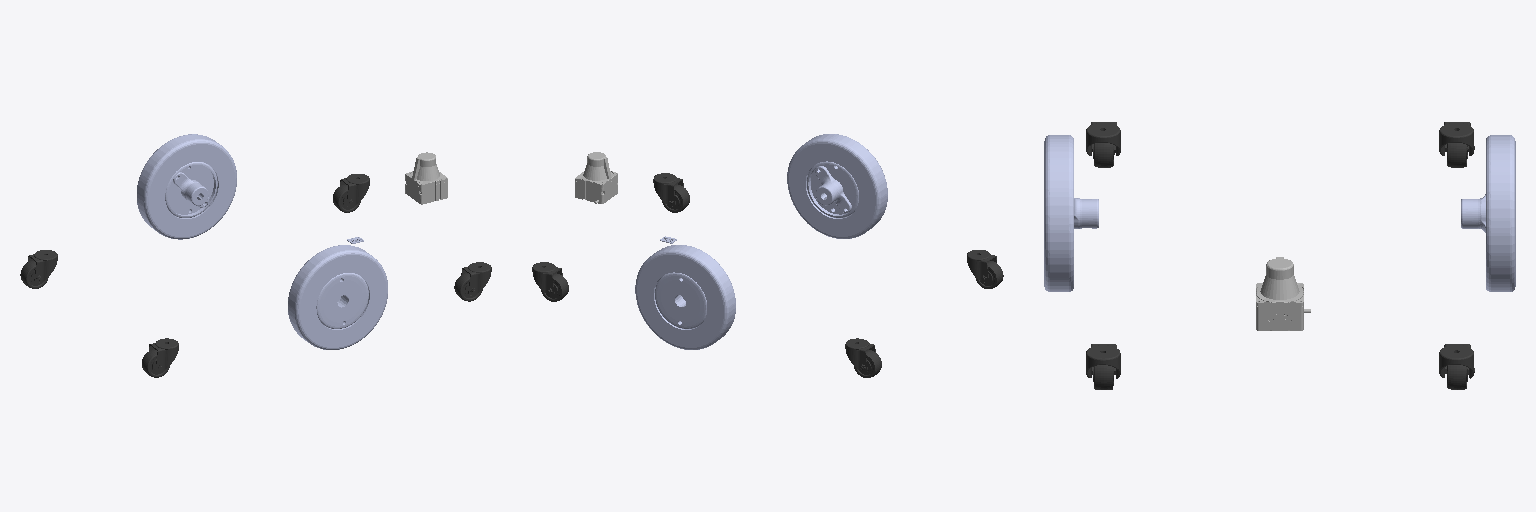
URDF robot description (leondroids_amr):
<?xml version="1.0" encoding="utf-8"?>
<!-- This URDF was automatically created by SolidWorks to URDF Exporter! Originally created by Stephen Brawner (brawner@gmail.com) 
     Commit Version: 1.6.0-1-g15f4949  Build Version: 1.6.7594.29634
     For more information, please see http://wiki.ros.org/sw_urdf_exporter -->
<robot
  name="leondroids_amr">
  <link
    name="base_link">
    <inertial>
      <origin
        xyz="-0.00483011984357595 2.06195437119083E-05 0.0677874851114229"
        rpy="0 0 0" />
      <mass
        value="13.677075451441" />
      <inertia
        ixx="0.542267780300335"
        ixy="3.98881994189506E-05"
        ixz="0.0034002923351286"
        iyy="0.746352447354667"
        iyz="3.10382238991715E-05"
        izz="1.27167600252342" />
    </inertial>
    <visual>
      <origin
        xyz="0 0 0"
        rpy="0 0 0" />
      <geometry>
        <mesh
          filename="package://leondroids_amr/meshes/base_link.STL" />
      </geometry>
      <material
        name="">
        <color
          rgba="0.792156862745098 0.819607843137255 0.933333333333333 1" />
      </material>
    </visual>
    <collision>
      <origin
        xyz="0 0 0"
        rpy="0 0 0" />
      <geometry>
        <mesh
          filename="package://leondroids_amr/meshes/base_link.STL" />
      </geometry>
    </collision>
  </link>
  <link
    name="lidar_link">
    <inertial>
      <origin
        xyz="-7.6839E-05 5.9642E-05 -0.064095"
        rpy="0 0 0" />
      <mass
        value="0.12031" />
      <inertia
        ixx="4.7029E-05"
        ixy="1.4518E-07"
        ixz="-8.1043E-08"
        iyy="4.7398E-05"
        iyz="8.0719E-08"
        izz="7.1234E-05" />
    </inertial>
    <visual>
      <origin
        xyz="0 0 0"
        rpy="0 0 0" />
      <geometry>
        <mesh
          filename="package://leondroids_amr/meshes/lidar_link.STL" />
      </geometry>
      <material
        name="">
        <color
          rgba="0.75294 0.75294 0.75294 1" />
      </material>
    </visual>
    <collision>
      <origin
        xyz="0 0 0"
        rpy="0 0 0" />
      <geometry>
        <mesh
          filename="package://leondroids_amr/meshes/lidar_link.STL" />
      </geometry>
    </collision>
  </link>
  <joint
    name="lidar_joint"
    type="fixed">
    <origin
      xyz="0.3523 0 0.16648"
      rpy="0 0 0" />
    <parent
      link="base_link" />
    <child
      link="lidar_link" />
    <axis
      xyz="0 0 0" />
  </joint>
  <link
    name="imu_link">
    <inertial>
      <origin
        xyz="0.00044188 -0.00010543 -0.0015868"
        rpy="0 0 0" />
      <mass
        value="0.00098313" />
      <inertia
        ixx="2.7278E-08"
        ixy="1.8646E-11"
        ixz="1.8314E-11"
        iyy="4.8045E-08"
        iyz="1.8158E-12"
        izz="7.4856E-08" />
    </inertial>
    <visual>
      <origin
        xyz="0 0 0"
        rpy="0 0 0" />
      <geometry>
        <mesh
          filename="package://leondroids_amr/meshes/imu_link.STL" />
      </geometry>
      <material
        name="">
        <color
          rgba="0.79216 0.81961 0.93333 1" />
      </material>
    </visual>
    <collision>
      <origin
        xyz="0 0 0"
        rpy="0 0 0" />
      <geometry>
        <mesh
          filename="package://leondroids_amr/meshes/imu_link.STL" />
      </geometry>
    </collision>
  </link>
  <joint
    name="imu_joint"
    type="fixed">
    <origin
      xyz="0.19937 -0.00044 0.03105"
      rpy="0 0 0" />
    <parent
      link="base_link" />
    <child
      link="imu_link" />
    <axis
      xyz="0 0 0" />
  </joint>
  <link
    name="right_wheel_link">
    <inertial>
      <origin
        xyz="-1.0226E-06 0.019411 1.7151E-05"
        rpy="0 0 0" />
      <mass
        value="1.1389" />
      <inertia
        ixx="0.0030012"
        ixy="1.0458E-08"
        ixz="-5.6941E-06"
        iyy="0.0057554"
        iyz="-2.0367E-07"
        izz="0.0030059" />
    </inertial>
    <visual>
      <origin
        xyz="0 0 0"
        rpy="0 0 0" />
      <geometry>
        <mesh
          filename="package://leondroids_amr/meshes/right_wheel_link.STL" />
      </geometry>
      <material
        name="">
        <color
          rgba="0.79216 0.81961 0.93333 1" />
      </material>
    </visual>
    <collision>
      <origin
        xyz="0 0 0"
        rpy="0 0 0" />
      <geometry>
        <mesh
          filename="package://leondroids_amr/meshes/right_wheel_link.STL" />
      </geometry>
    </collision>
  </link>
  <joint
    name="right_wheel_joint"
    type="continuous">
    <origin
      xyz="-0.00025793 -0.3 0.0719"
      rpy="0 0 0" />
    <parent
      link="base_link" />
    <child
      link="right_wheel_link" />
    <axis
      xyz="0 1 0" />
  </joint>
  <link
    name="left_wheel_link">
    <inertial>
      <origin
        xyz="7.7226E-07 -0.019411 1.717E-05"
        rpy="0 0 0" />
      <mass
        value="1.1389" />
      <inertia
        ixx="0.0030011"
        ixy="1.0651E-08"
        ixz="5.1479E-06"
        iyy="0.0057554"
        iyz="2.0365E-07"
        izz="0.003006" />
    </inertial>
    <visual>
      <origin
        xyz="0 0 0"
        rpy="0 0 0" />
      <geometry>
        <mesh
          filename="package://leondroids_amr/meshes/left_wheel_link.STL" />
      </geometry>
      <material
        name="">
        <color
          rgba="0.79216 0.81961 0.93333 1" />
      </material>
    </visual>
    <collision>
      <origin
        xyz="0 0 0"
        rpy="0 0 0" />
      <geometry>
        <mesh
          filename="package://leondroids_amr/meshes/left_wheel_link.STL" />
      </geometry>
    </collision>
  </link>
  <joint
    name="left_wheel_joint"
    type="continuous">
    <origin
      xyz="0 0.3 0.0719"
      rpy="0 0 0" />
    <parent
      link="base_link" />
    <child
      link="left_wheel_link" />
    <axis
      xyz="0 1 0" />
  </joint>
  <link
    name="rb_swivel_link">
    <inertial>
      <origin
        xyz="-0.0055199 0.00019164 -0.0066169"
        rpy="0 0 0" />
      <mass
        value="0.011291" />
      <inertia
        ixx="4.0608E-06"
        ixy="-7.8959E-09"
        ixz="-8.6886E-07"
        iyy="3.833E-06"
        iyz="3.0127E-08"
        izz="4.4634E-06" />
    </inertial>
    <visual>
      <origin
        xyz="0 0 0"
        rpy="0 0 0" />
      <geometry>
        <mesh
          filename="package://leondroids_amr/meshes/rb_swivel_link.STL" />
      </geometry>
      <material
        name="">
        <color
          rgba="0.29412 0.29412 0.29412 1" />
      </material>
    </visual>
    <collision>
      <origin
        xyz="0 0 0"
        rpy="0 0 0" />
      <geometry>
        <mesh
          filename="package://leondroids_amr/meshes/rb_swivel_link.STL" />
      </geometry>
    </collision>
  </link>
  <joint
    name="rb_swivel_joint"
    type="continuous">
    <origin
      xyz="-0.3347 -0.225 0.0302"
      rpy="0 0 0" />
    <parent
      link="base_link" />
    <child
      link="rb_swivel_link" />
    <axis
      xyz="0 0 1" />
  </joint>
  <link
    name="rb_wheel_link">
    <inertial>
      <origin
        xyz="-8.7993E-07 -0.021981 -8.5285E-07"
        rpy="0 0 0" />
      <mass
        value="0.047365" />
      <inertia
        ixx="9.5374E-06"
        ixy="-3.8214E-10"
        ixz="4.6996E-10"
        iyy="1.4229E-05"
        iyz="-3.7038E-10"
        izz="9.5374E-06" />
    </inertial>
    <visual>
      <origin
        xyz="0 0 0"
        rpy="0 0 0" />
      <geometry>
        <mesh
          filename="package://leondroids_amr/meshes/rb_wheel_link.STL" />
      </geometry>
      <material
        name="">
        <color
          rgba="0.29412 0.29412 0.29412 1" />
      </material>
    </visual>
    <collision>
      <origin
        xyz="0 0 0"
        rpy="0 0 0" />
      <geometry>
        <mesh
          filename="package://leondroids_amr/meshes/rb_wheel_link.STL" />
      </geometry>
    </collision>
  </link>
  <joint
    name="rb_wheel_joint"
    type="continuous">
    <origin
      xyz="-0.022221 0.022786 -0.033"
      rpy="0 0 -0.034766" />
    <parent
      link="rb_swivel_link" />
    <child
      link="rb_wheel_link" />
    <axis
      xyz="0 1 0" />
  </joint>
  <link
    name="lb_swivel_link">
    <inertial>
      <origin
        xyz="-0.0055198 0.00019493 -0.0066169"
        rpy="0 0 0" />
      <mass
        value="0.011291" />
      <inertia
        ixx="4.0608E-06"
        ixy="-8.0318E-09"
        ixz="-8.6884E-07"
        iyy="3.833E-06"
        iyz="3.0645E-08"
        izz="4.4634E-06" />
    </inertial>
    <visual>
      <origin
        xyz="0 0 0"
        rpy="0 0 0" />
      <geometry>
        <mesh
          filename="package://leondroids_amr/meshes/lb_swivel_link.STL" />
      </geometry>
      <material
        name="">
        <color
          rgba="0.29412 0.29412 0.29412 1" />
      </material>
    </visual>
    <collision>
      <origin
        xyz="0 0 0"
        rpy="0 0 0" />
      <geometry>
        <mesh
          filename="package://leondroids_amr/meshes/lb_swivel_link.STL" />
      </geometry>
    </collision>
  </link>
  <joint
    name="lb_swivel_joint"
    type="continuous">
    <origin
      xyz="-0.3347 0.225 0.0302"
      rpy="0 0 0" />
    <parent
      link="base_link" />
    <child
      link="lb_swivel_link" />
    <axis
      xyz="0 0 1" />
  </joint>
  <link
    name="lb_wheel_link">
    <inertial>
      <origin
        xyz="-0.00077642 -0.021967 9.9103E-07"
        rpy="0 0 0" />
      <mass
        value="0.047365" />
      <inertia
        ixx="9.5431E-06"
        ixy="1.6607E-07"
        ixz="4.6225E-10"
        iyy="1.4223E-05"
        iyz="4.1431E-10"
        izz="9.5375E-06" />
    </inertial>
    <visual>
      <origin
        xyz="0 0 0"
        rpy="0 0 0" />
      <geometry>
        <mesh
          filename="package://leondroids_amr/meshes/lb_wheel_link.STL" />
      </geometry>
      <material
        name="">
        <color
          rgba="0.29412 0.29412 0.29412 1" />
      </material>
    </visual>
    <collision>
      <origin
        xyz="0 0 0"
        rpy="0 0 0" />
      <geometry>
        <mesh
          filename="package://leondroids_amr/meshes/lb_wheel_link.STL" />
      </geometry>
    </collision>
  </link>
  <joint
    name="lb_wheel_joint"
    type="continuous">
    <origin
      xyz="-0.022208 0.022799 -0.033"
      rpy="0 0 0" />
    <parent
      link="lb_swivel_link" />
    <child
      link="lb_wheel_link" />
    <axis
      xyz="0.035355 0.99937 0" />
  </joint>
  <link
    name="rf_swivel_link">
    <inertial>
      <origin
        xyz="-0.0055211 0.00015123 -0.0066169"
        rpy="0 0 0" />
      <mass
        value="0.011291" />
      <inertia
        ixx="4.0609E-06"
        ixy="-6.2271E-09"
        ixz="-8.6906E-07"
        iyy="3.8328E-06"
        iyz="2.3766E-08"
        izz="4.4634E-06" />
    </inertial>
    <visual>
      <origin
        xyz="0 0 0"
        rpy="0 0 0" />
      <geometry>
        <mesh
          filename="package://leondroids_amr/meshes/rf_swivel_link.STL" />
      </geometry>
      <material
        name="">
        <color
          rgba="0.29412 0.29412 0.29412 1" />
      </material>
    </visual>
    <collision>
      <origin
        xyz="0 0 0"
        rpy="0 0 0" />
      <geometry>
        <mesh
          filename="package://leondroids_amr/meshes/rf_swivel_link.STL" />
      </geometry>
    </collision>
  </link>
  <joint
    name="rf_swivel_joint"
    type="continuous">
    <origin
      xyz="0.3357 -0.225 0.0302"
      rpy="0 0 0" />
    <parent
      link="base_link" />
    <child
      link="rf_swivel_link" />
    <axis
      xyz="0 0 1" />
  </joint>
  <link
    name="rf_wheel_link">
    <inertial>
      <origin
        xyz="-0.00060249 -0.021973 9.9103E-07"
        rpy="0 0 0" />
      <mass
        value="0.047365" />
      <inertia
        ixx="9.5408E-06"
        ixy="1.29E-07"
        ixz="4.5895E-10"
        iyy="1.4225E-05"
        iyz="4.1796E-10"
        izz="9.5375E-06" />
    </inertial>
    <visual>
      <origin
        xyz="0 0 0"
        rpy="0 0 0" />
      <geometry>
        <mesh
          filename="package://leondroids_amr/meshes/rf_wheel_link.STL" />
      </geometry>
      <material
        name="">
        <color
          rgba="0.29412 0.29412 0.29412 1" />
      </material>
    </visual>
    <collision>
      <origin
        xyz="0 0 0"
        rpy="0 0 0" />
      <geometry>
        <mesh
          filename="package://leondroids_amr/meshes/rf_wheel_link.STL" />
      </geometry>
    </collision>
  </link>
  <joint
    name="rf_wheel_joint"
    type="continuous">
    <origin
      xyz="-0.022388 0.022623 -0.033"
      rpy="0 0 0" />
    <parent
      link="rf_swivel_link" />
    <child
      link="rf_wheel_link" />
    <axis
      xyz="0.027443 0.99962 0" />
  </joint>
  <link
    name="lf_swivel_link">
    <inertial>
      <origin
        xyz="-0.0055186 0.00022575 -0.0066169"
        rpy="0 0 0" />
      <mass
        value="0.011291" />
      <inertia
        ixx="4.0607E-06"
        ixy="-9.3037E-09"
        ixz="-8.6866E-07"
        iyy="3.8331E-06"
        iyz="3.5496E-08"
        izz="4.4634E-06" />
    </inertial>
    <visual>
      <origin
        xyz="0 0 0"
        rpy="0 0 0" />
      <geometry>
        <mesh
          filename="package://leondroids_amr/meshes/lf_swivel_link.STL" />
      </geometry>
      <material
        name="">
        <color
          rgba="0.29412 0.29412 0.29412 1" />
      </material>
    </visual>
    <collision>
      <origin
        xyz="0 0 0"
        rpy="0 0 0" />
      <geometry>
        <mesh
          filename="package://leondroids_amr/meshes/lf_swivel_link.STL" />
      </geometry>
    </collision>
  </link>
  <joint
    name="lf_swivel_joint"
    type="continuous">
    <origin
      xyz="0.3347 0.225 0.0302"
      rpy="0 0 0" />
    <parent
      link="base_link" />
    <child
      link="lf_swivel_link" />
    <axis
      xyz="0 0 1" />
  </joint>
  <link
    name="lf_wheel_link">
    <inertial>
      <origin
        xyz="-0.00090101 -0.021962 -1.8211E-07"
        rpy="0 0 0" />
      <mass
        value="0.047365" />
      <inertia
        ixx="9.5457E-06"
        ixy="1.9133E-07"
        ixz="1.3484E-10"
        iyy="1.4221E-05"
        iyz="-8.4674E-11"
        izz="9.5369E-06" />
    </inertial>
    <visual>
      <origin
        xyz="0 0 0"
        rpy="0 0 0" />
      <geometry>
        <mesh
          filename="package://leondroids_amr/meshes/lf_wheel_link.STL" />
      </geometry>
      <material
        name="">
        <color
          rgba="0.29412 0.29412 0.29412 1" />
      </material>
    </visual>
    <collision>
      <origin
        xyz="0 0 0"
        rpy="0 0 0" />
      <geometry>
        <mesh
          filename="package://leondroids_amr/meshes/lf_wheel_link.STL" />
      </geometry>
    </collision>
  </link>
  <joint
    name="lf_wheel_joint"
    type="continuous">
    <origin
      xyz="-0.02208 0.022923 -0.033"
      rpy="0 0 0" />
    <parent
      link="lf_swivel_link" />
    <child
      link="lf_wheel_link" />
    <axis
      xyz="0.040935 0.99916 0" />
  </joint>
</robot>

--- Render facts (derived) ---
Views: 3 orthographic renders of the robot side by side, from view 1: azimuth 30°, elevation 25°; view 2: azimuth 150°, elevation 25°; view 3: azimuth 270°, elevation 25°.
Model leondroids_amr with 13 links and 12 joints (10 continuous, 2 fixed), rooted at base_link, posed every joint at zero.
Links seen in each view (by area): view 1: right_wheel_link, left_wheel_link, lidar_link, lb_swivel_link, lf_swivel_link, rb_swivel_link, rf_swivel_link; view 2: left_wheel_link, right_wheel_link, lidar_link, rf_swivel_link, lb_swivel_link, lf_swivel_link, rb_swivel_link; view 3: left_wheel_link, right_wheel_link, lidar_link, rf_swivel_link, lb_swivel_link, lf_swivel_link, rb_swivel_link, lf_wheel_link, rb_wheel_link, lb_wheel_link.
Link boxes in pixels (<box>): right_wheel_link: <box>288,245,387,349</box>; left_wheel_link: <box>137,134,236,239</box>; lidar_link: <box>405,152,447,204</box>; lb_swivel_link: <box>27,250,57,282</box>; lf_swivel_link: <box>340,174,369,206</box>; rb_swivel_link: <box>149,338,178,370</box>; rf_swivel_link: <box>461,262,491,294</box>; left_wheel_link: <box>635,245,735,349</box>; right_wheel_link: <box>787,134,887,238</box>; lidar_link: <box>575,152,617,203</box>; rf_swivel_link: <box>653,173,683,205</box>; lb_swivel_link: <box>845,338,875,371</box>; lf_swivel_link: <box>532,262,562,294</box>; rb_swivel_link: <box>967,250,996,282</box>; left_wheel_link: <box>1461,135,1515,291</box>; right_wheel_link: <box>1044,135,1098,291</box>; lidar_link: <box>1256,257,1310,330</box>; rf_swivel_link: <box>1086,344,1120,378</box>; lb_swivel_link: <box>1439,122,1473,155</box>; lf_swivel_link: <box>1439,344,1473,378</box>; rb_swivel_link: <box>1086,122,1120,155</box>; lf_wheel_link: <box>1445,365,1474,389</box>; rb_wheel_link: <box>1092,143,1115,167</box>; lb_wheel_link: <box>1445,143,1474,167</box>.
Bounding box of the posed robot: 0.7653 × 0.6 × 0.2 m (x, y, z).
Meshes: 13 distinct files referenced, 12 mesh visuals loaded (12 binary STL); not drawn: 1 (reference not matched to a file when rendering).
